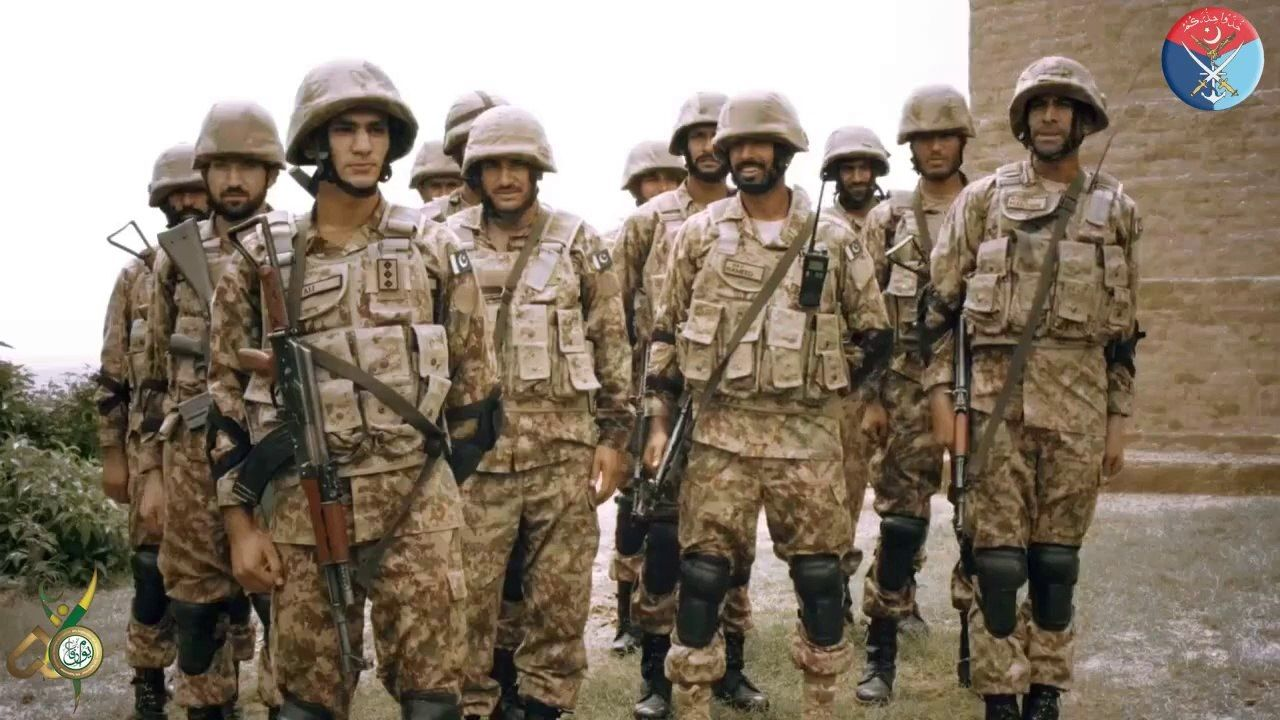gun: (227, 224, 367, 666), (617, 337, 706, 511), (155, 219, 229, 421), (946, 307, 977, 540)
uniform: (229, 219, 464, 677), (682, 201, 846, 647), (450, 206, 598, 696), (970, 168, 1105, 666)
